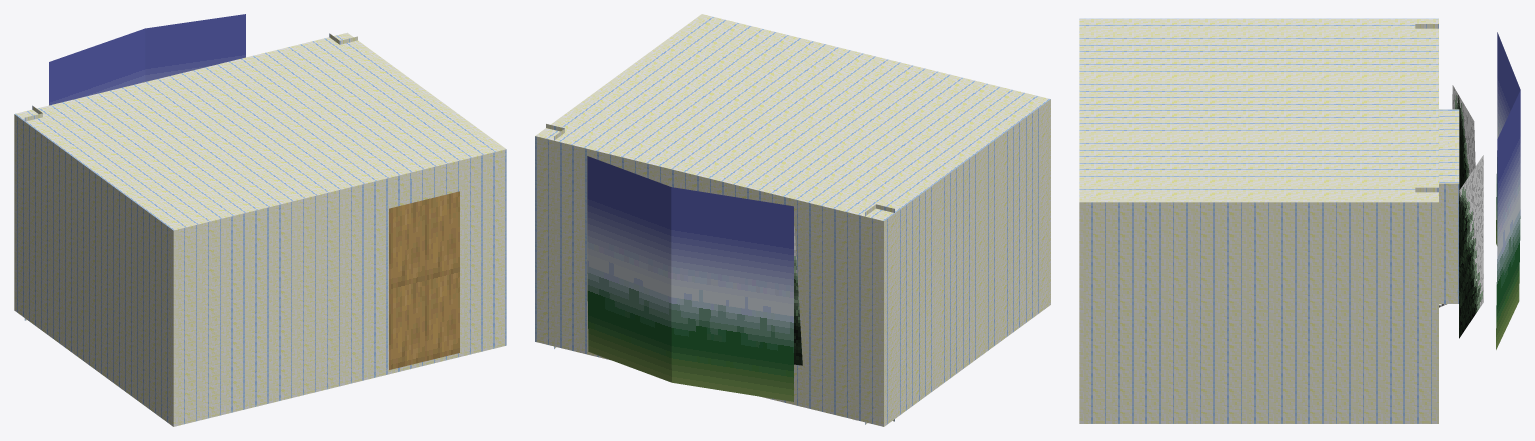
File: Bedroom.obj
3 renders of one model, left to right at view 1: azimuth 30°, elevation 25°; view 2: azimuth 150°, elevation 25°; view 3: azimuth 270°, elevation 25°, orthographic. The views are drawn at different scales.
Bounding box in the file's own units: 66.62 × 41.58 × 67.65.
41 materials, 41 textured.
